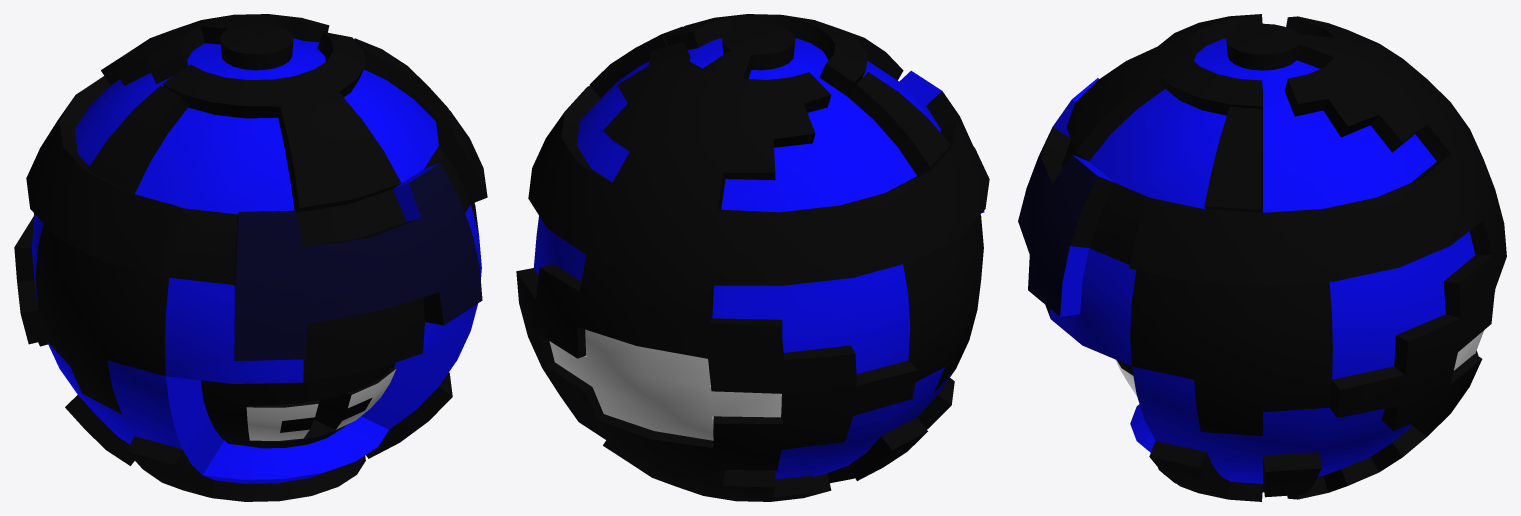
The model's file is body.obj.
3 renders of one model, left to right at view 1: azimuth 30°, elevation 25°; view 2: azimuth 150°, elevation 25°; view 3: azimuth 270°, elevation 25°, orthographic.
Parts seen in each view (by area): view 1: body13; view 2: body13; view 3: body13.
Boxes of the visible parts, x1,y1,x2,y2 form: body13: (14,14,487,501); body13: (516,14,989,501); body13: (1018,14,1506,501).
Bounding box in the file's own units: 2.05 × 2.16 × 2.16.
